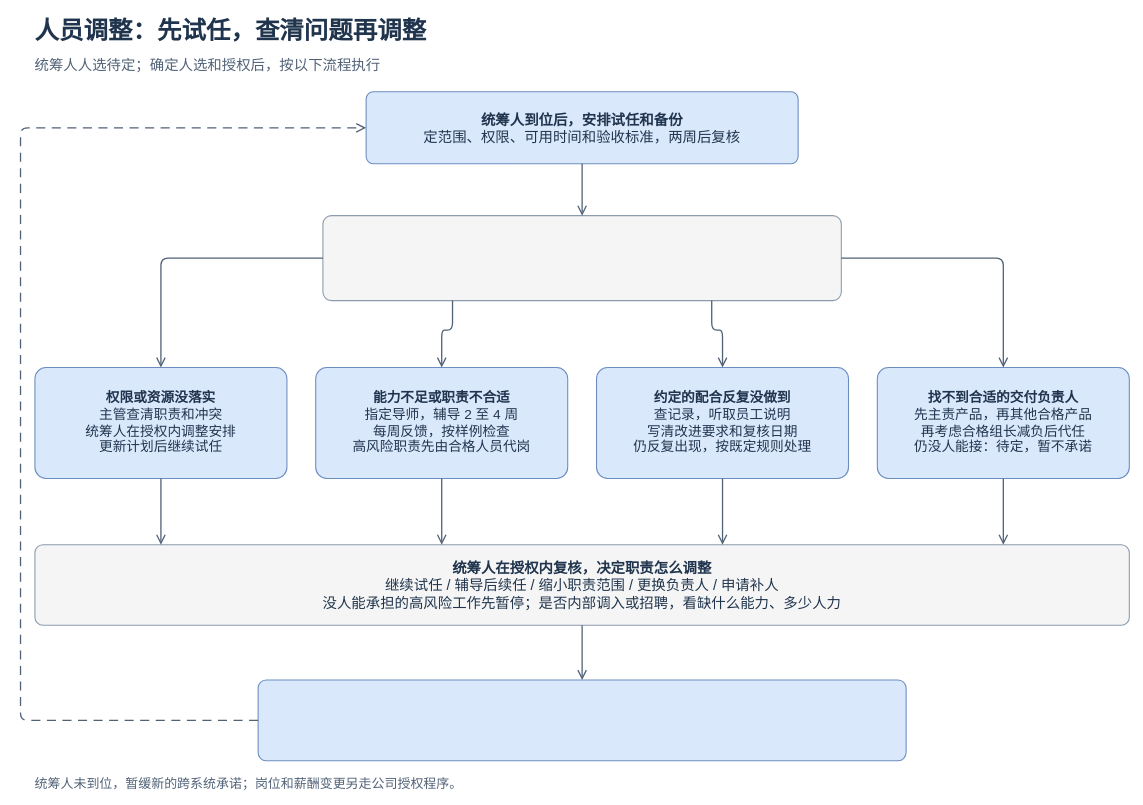
The diagram is 1143 pixels wide and 805 high, and some of its shapes have lost their labels. The centre of each missing label's shape, as x and y in pixels:
"相关主管查清问题 查看任务记录，听取员工说明，进行专业评审 开发由组长复核，测试由测试组长复核，负责人由统筹人组织复核" goes at point (582, 258).
"继续任职就更新安排，换人就完成交接 换人要定生效时间，移交计划、配合事项、风险、决策和未完成项 各组重新确认可用时间和日期；负责人只留一名，保留原承诺和变更记录" goes at point (581, 720).
